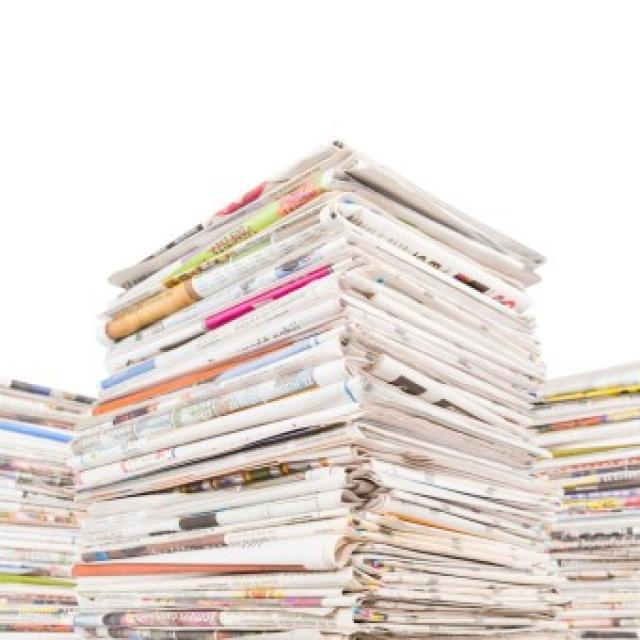reuseable_paper: (65, 134, 557, 640)
